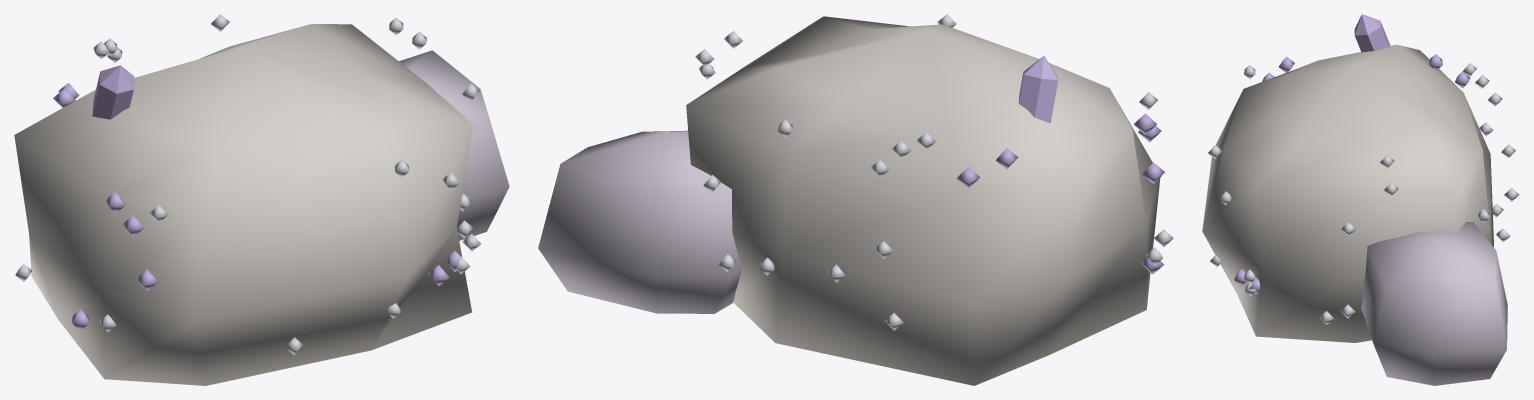
Rendered from starlight_pool_rim_stone_c.gltf.
The picture shows the model from 3 angles, left to right: view 1: azimuth 30°, elevation 25°; view 2: azimuth 150°, elevation 25°; view 3: azimuth 270°, elevation 25°; orthographic projection. The views are drawn at different scales.
Parts seen in each view (by area): view 1: starlight_pool_rim_stone_c; view 2: starlight_pool_rim_stone_c; view 3: starlight_pool_rim_stone_c.
Boxes of the visible parts, x1,y1,x2,y2 form: starlight_pool_rim_stone_c: (14,14,509,385); starlight_pool_rim_stone_c: (538,14,1173,385); starlight_pool_rim_stone_c: (1202,14,1519,385).
Size of what is drawn, in the model's own units: 1.07 by 0.5259 by 0.7017.
